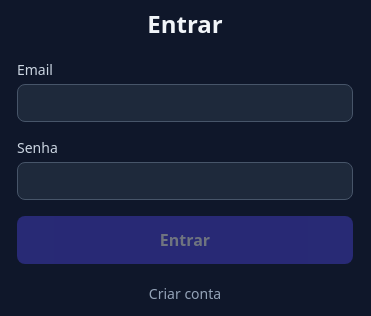
Test: Login › disables the button while submitting
Type "joao@example.com" into the field labelled "Email" at x=185, y=103, box [17,84,353,122]
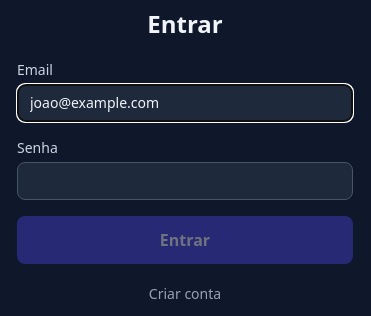
Type "supersecret" into the password field labelled "Senha" at x=185, y=181, box [17,162,353,200]
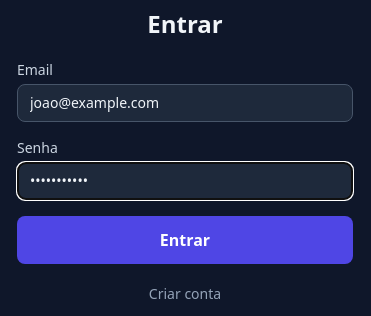
Click the button "Entrar" at x=185, y=240, box [17,216,353,264]
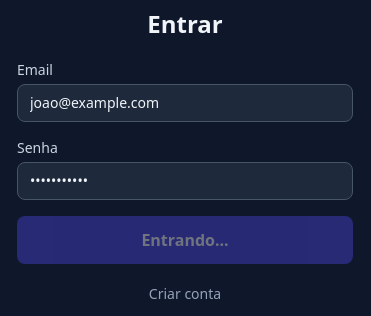
Check: the button "Entrando..." is disabled, box [17,216,353,264]
